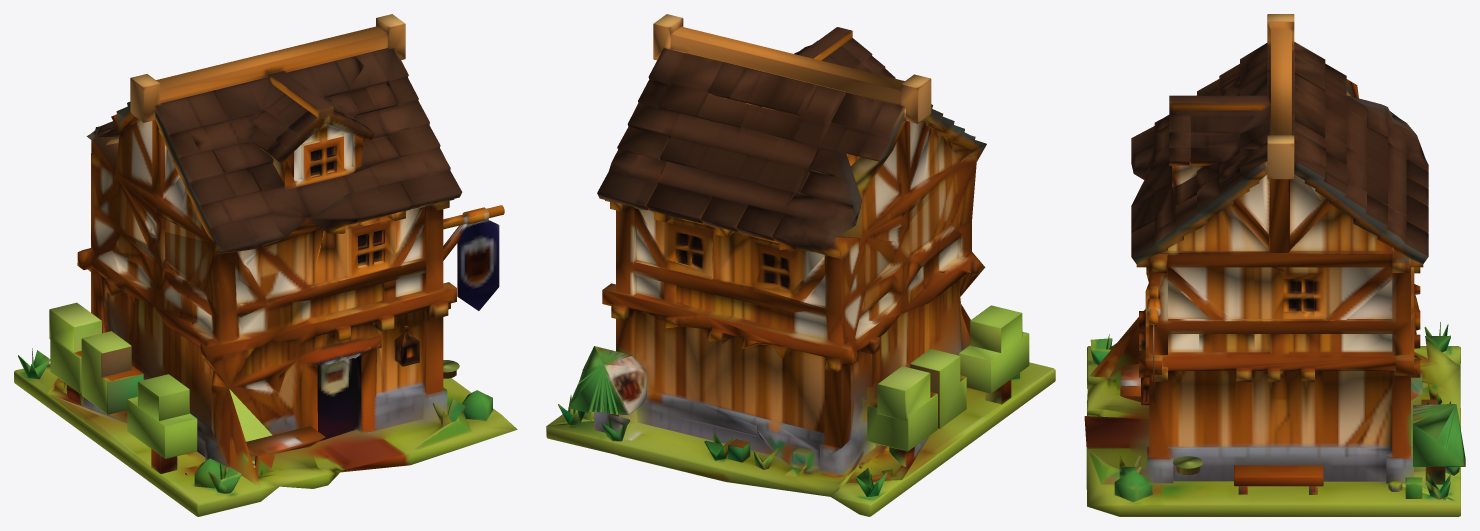
File: tavern.fbx
3 renders of one model, left to right at view 1: azimuth 30°, elevation 25°; view 2: azimuth 150°, elevation 25°; view 3: azimuth 270°, elevation 25°, orthographic.
Parts seen in each view (by area): view 1: texture_pbr_v128; view 2: texture_pbr_v128; view 3: texture_pbr_v128.
Boxes of the visible parts, bbox=[...] form: texture_pbr_v128: bbox=[14, 14, 517, 516]; texture_pbr_v128: bbox=[546, 14, 1055, 516]; texture_pbr_v128: bbox=[1084, 14, 1465, 516].
Size of the model in its own units: 190 by 190 by 181.
Materials: 1 (1 with a texture image).
